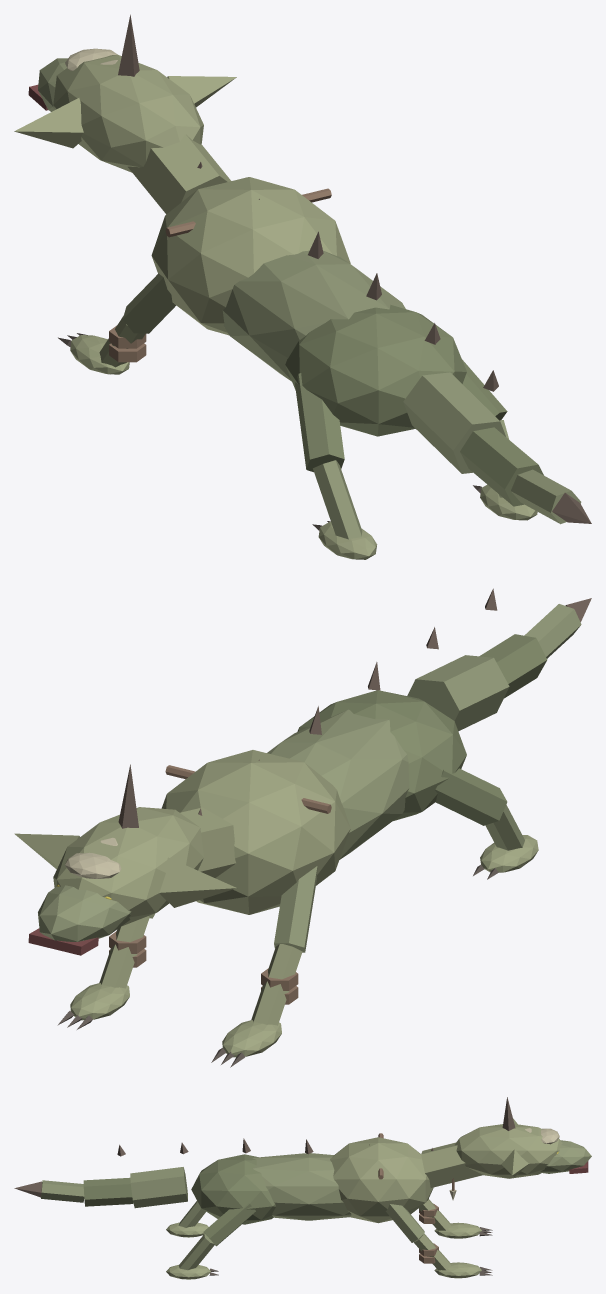
Rendered from quadruped_tier_1_razorhound.glb.
3 views of the same model, one above another, from view 1: azimuth 30°, elevation 25°; view 2: azimuth 150°, elevation 25°; view 3: azimuth 270°, elevation 25° (orthographic). The views are drawn at different scales.
Visible parts, largest first — view 1: chest_mass, hip_mass, body_main, head, tail_segment_0, neck, tail_segment_1, hind_upper_leg_L, hind_lower_leg_L, front_upper_leg_L, side_ear_fin_L, tail_segment_2 (+8 smaller); view 2: chest_mass, body_main, head, hip_mass, tail_segment_0, snout, hind_upper_leg_L, front_upper_leg_L, tail_segment_1, neck, side_ear_fin_L, front_lower_leg_L (+10 smaller); view 3: chest_mass, body_main, head, hip_mass, tail_segment_0, neck, tail_segment_1, snout, hind_upper_leg_R, tail_segment_2, front_upper_leg_R, hind_lower_leg_R (+8 smaller).
Part boxes in pixels (box(x1,y1,x2,y2)): chest_mass: box(151, 177, 350, 335); hip_mass: box(285, 304, 466, 436); body_main: box(222, 250, 405, 381); head: box(53, 54, 203, 172); tail_segment_0: box(403, 372, 505, 473); neck: box(128, 134, 230, 214); tail_segment_1: box(460, 427, 543, 506); hind_upper_leg_L: box(295, 373, 344, 472); hind_lower_leg_L: box(313, 460, 362, 539); front_upper_leg_L: box(122, 273, 175, 333); side_ear_fin_L: box(14, 98, 83, 148); tail_segment_2: box(511, 469, 581, 524); chest_mass: box(161, 750, 350, 914); body_main: box(267, 709, 409, 859); head: box(53, 807, 203, 926); hip_mass: box(297, 690, 466, 820); tail_segment_0: box(407, 655, 509, 731); snout: box(38, 885, 131, 941); hind_upper_leg_L: box(435, 768, 507, 825); front_upper_leg_L: box(274, 866, 317, 952); tail_segment_1: box(479, 634, 547, 698); neck: box(180, 807, 235, 877); side_ear_fin_L: box(159, 857, 236, 907); front_lower_leg_L: box(251, 944, 302, 1025); chest_mass: box(330, 1137, 433, 1223); body_main: box(252, 1153, 351, 1220); head: box(455, 1124, 562, 1178); hip_mass: box(191, 1154, 275, 1224); tail_segment_0: box(130, 1167, 187, 1208); neck: box(421, 1142, 482, 1187); tail_segment_1: box(83, 1177, 133, 1206); snout: box(540, 1140, 591, 1173); hind_upper_leg_R: box(203, 1203, 255, 1246); tail_segment_2: box(40, 1180, 84, 1202); front_upper_leg_R: box(385, 1204, 424, 1242); hind_lower_leg_R: box(178, 1234, 214, 1270).
Size of the model in its own units: 0.7995 by 1.03 by 3.35.
